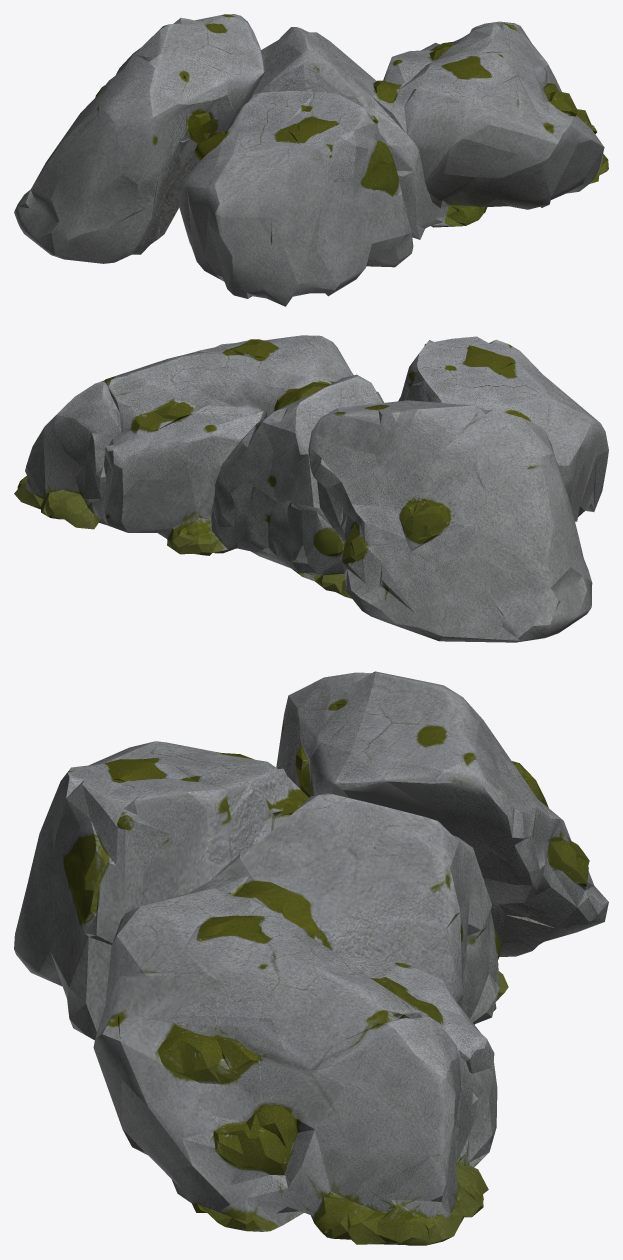
File: boulders_mid.glb
3 renders of one model, top to bottom at view 1: azimuth 30°, elevation 25°; view 2: azimuth 150°, elevation 25°; view 3: azimuth 270°, elevation 25°, orthographic. The views are drawn at different scales.
Parts seen in each view (by area): view 1: output_unwrapped; view 2: output_unwrapped; view 3: output_unwrapped.
Part boxes in pixels (x1,y1,x2,y2): output_unwrapped: (14, 14, 608, 306); output_unwrapped: (14, 335, 608, 642); output_unwrapped: (14, 671, 608, 1245).
Size of the model in its own units: 1.86 by 0.6002 by 1.18.
1 material, 1 textured.
